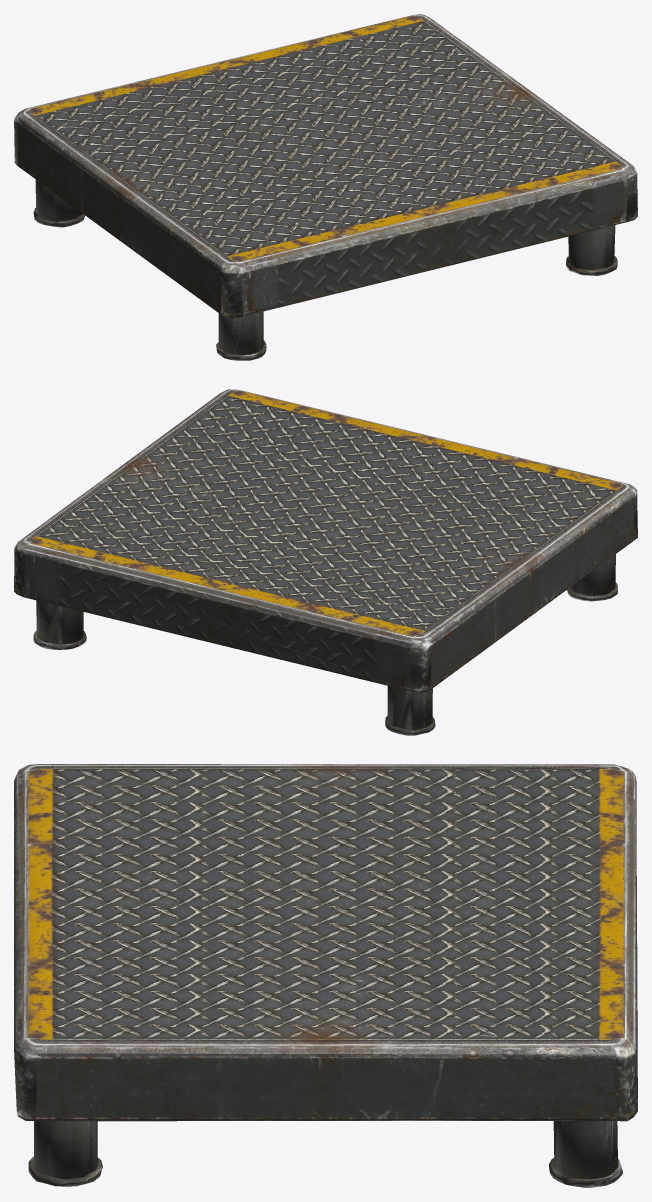
Rendered from Pedal1.fbx.
3 views of the same model, one above another, from view 1: azimuth 30°, elevation 25°; view 2: azimuth 150°, elevation 25°; view 3: azimuth 270°, elevation 25° (orthographic). The views are drawn at different scales.
Visible parts, largest first — view 1: mesh_node; view 2: mesh_node; view 3: mesh_node.
Part boxes in pixels (box(x1,y1,x2,y2)): mesh_node: box(14, 14, 637, 360); mesh_node: box(14, 389, 637, 735); mesh_node: box(14, 764, 637, 1187).
Bounding box in the file's own units: 100 × 23.73 × 91.8.
Materials: 1 (1 with a texture image).
